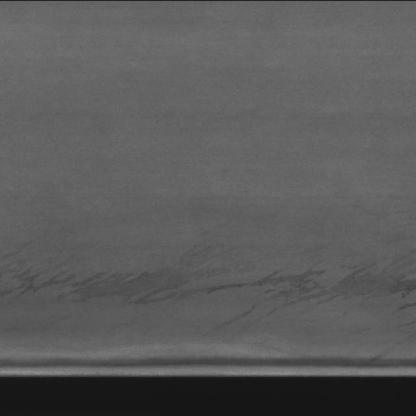water_spot: (4, 244, 414, 312)
